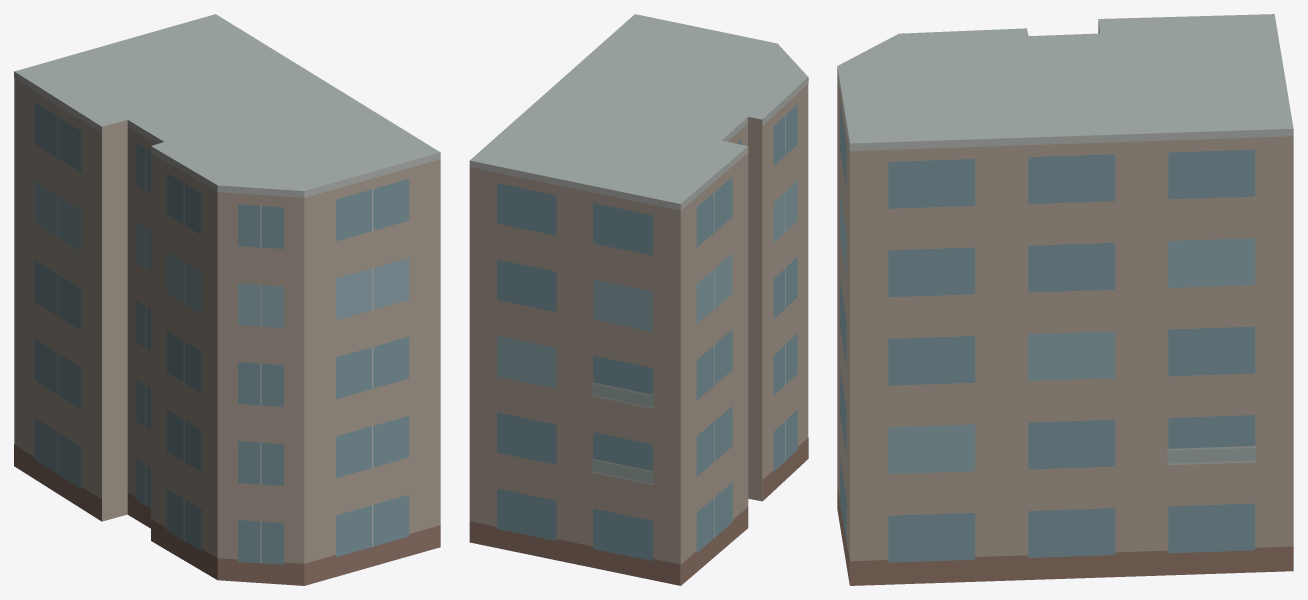
The model's file is survey-upis-33010490.glb.
3 views of the same model, side by side, from view 1: azimuth 30°, elevation 25°; view 2: azimuth 150°, elevation 25°; view 3: azimuth 270°, elevation 25° (orthographic). The views are drawn at different scales.
Parts seen in each view (by area): view 1: survey-upis-33010490.tmp; view 2: survey-upis-33010490.tmp; view 3: survey-upis-33010490.tmp.
Boxes of the visible parts, x1=… form: survey-upis-33010490.tmp: x1=14, y1=14, x2=440, y2=585; survey-upis-33010490.tmp: x1=469, y1=14, x2=808, y2=585; survey-upis-33010490.tmp: x1=837, y1=14, x2=1293, y2=585.
Bounding box in the file's own units: 9.02 × 14.35 × 13.43.
